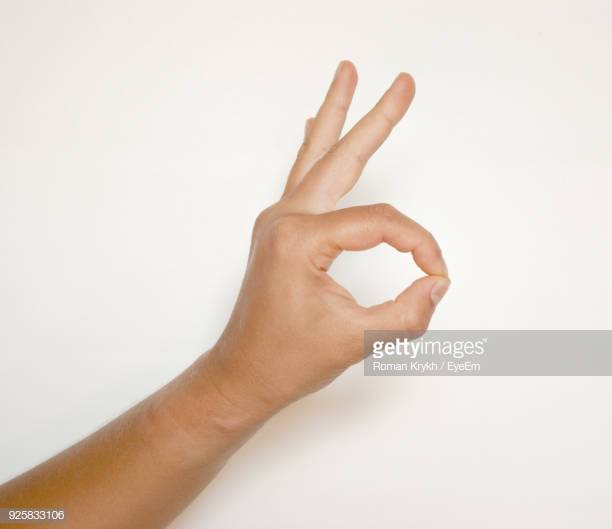oksign: (244, 62, 452, 382)
